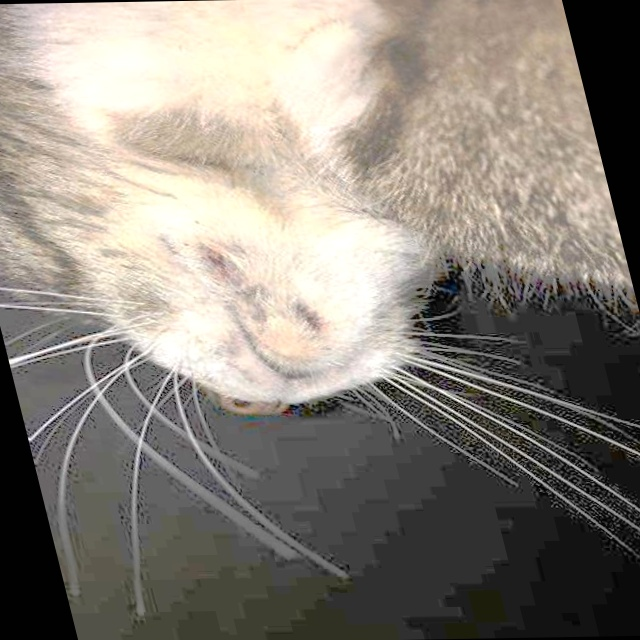acne: (192, 234, 326, 333)
